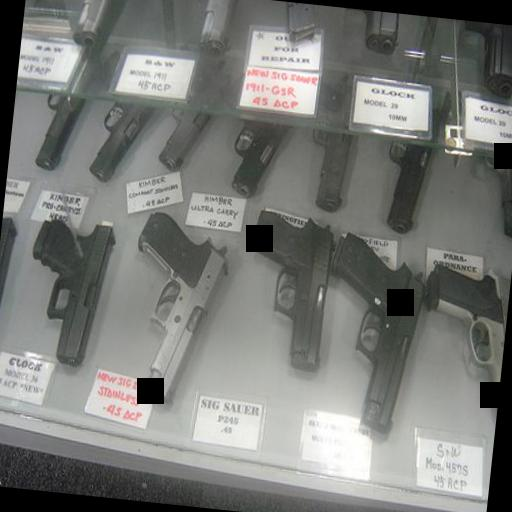Handgun: (313, 228, 423, 450), (120, 206, 238, 408), (411, 250, 512, 418), (238, 208, 336, 372), (18, 212, 117, 366), (275, 65, 368, 208), (214, 57, 302, 198), (84, 36, 162, 182), (152, 34, 226, 174), (453, 21, 512, 106), (356, 11, 406, 66)
